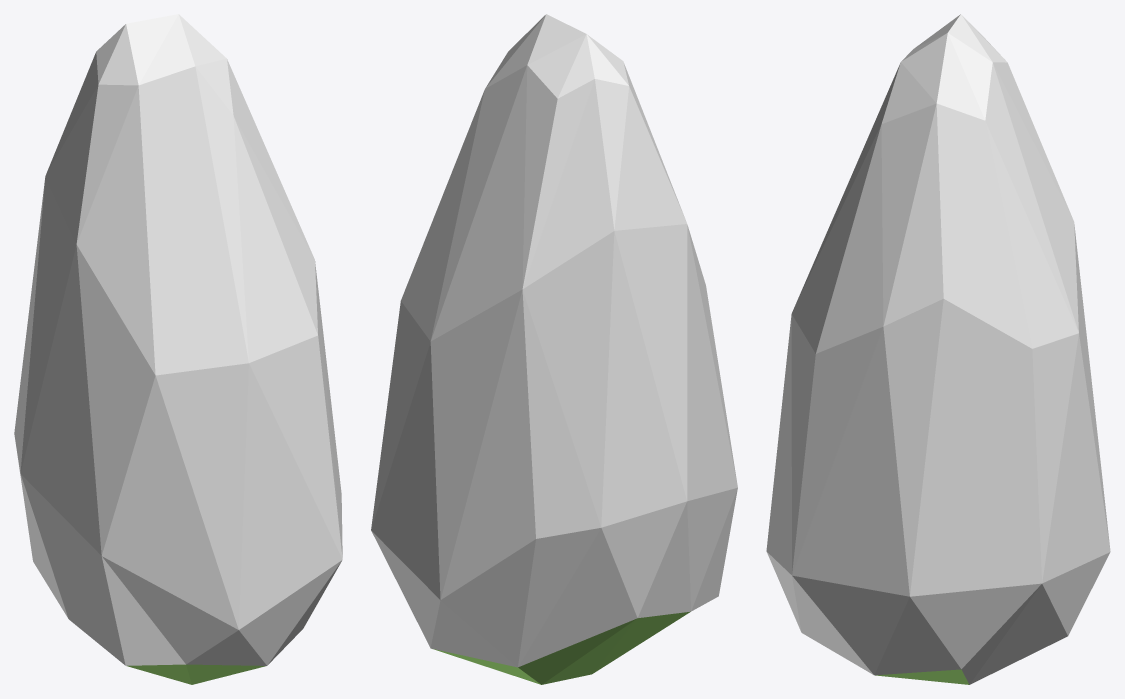
The model's file is Thuja_BushTree_m_Snow_06.fbx.
3 renders of one model, left to right at view 1: azimuth 30°, elevation 25°; view 2: azimuth 150°, elevation 25°; view 3: azimuth 270°, elevation 25°, orthographic. The views are drawn at different scales.
Visible parts, largest first — view 1: Thuja_BushTree_m_Snow_06; view 2: Thuja_BushTree_m_Snow_06; view 3: Thuja_BushTree_m_Snow_06.
Boxes of the visible parts, x1,y1,x2,y2 form: Thuja_BushTree_m_Snow_06: (14, 14, 342, 684); Thuja_BushTree_m_Snow_06: (371, 14, 737, 684); Thuja_BushTree_m_Snow_06: (766, 14, 1110, 684).
Bounding box in the file's own units: 174 × 364 × 181.
